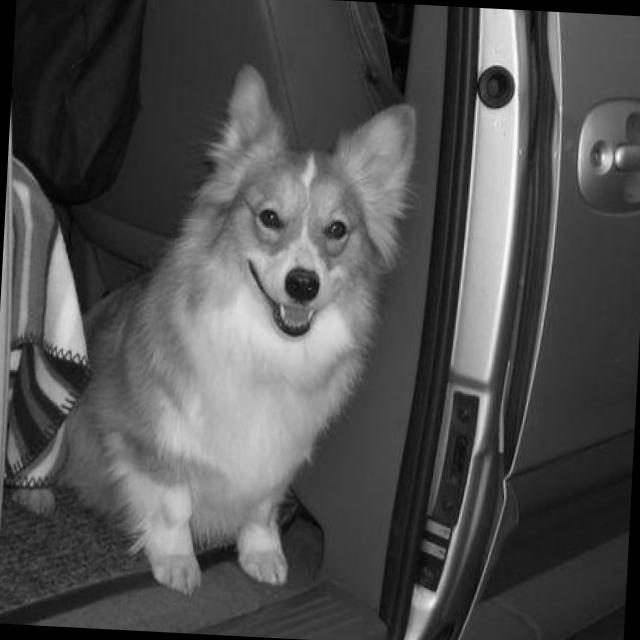sitting: (0, 48, 428, 608)
